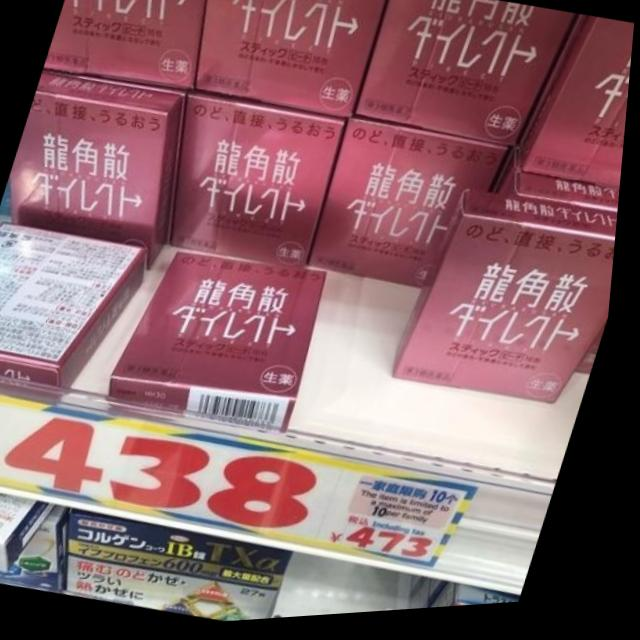box: (401, 193, 622, 411), (114, 254, 331, 431), (313, 121, 512, 293), (12, 71, 183, 271), (356, 0, 577, 153), (176, 93, 349, 272), (77, 510, 304, 625), (0, 221, 149, 390), (198, 0, 388, 121), (520, 22, 635, 196), (44, 0, 205, 92), (0, 506, 81, 594), (0, 493, 67, 573), (506, 178, 624, 220), (440, 585, 532, 615)
